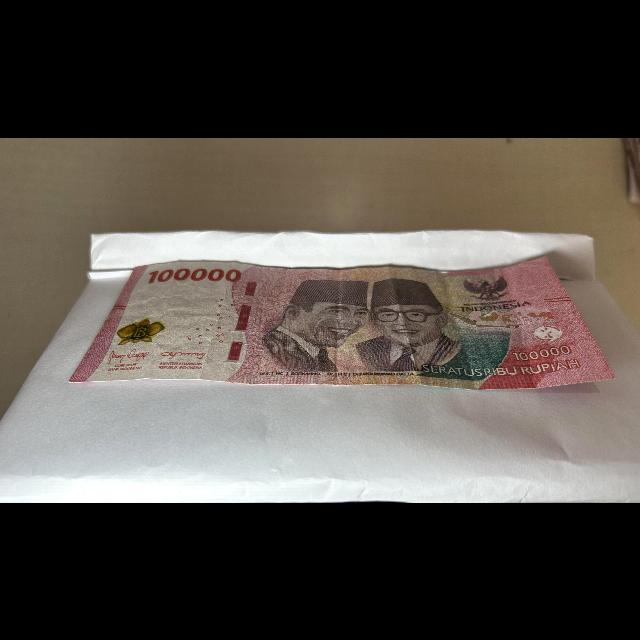Palsu-100k: (65, 246, 630, 394)
Tinta-Palsu-100k: (114, 317, 170, 345)
